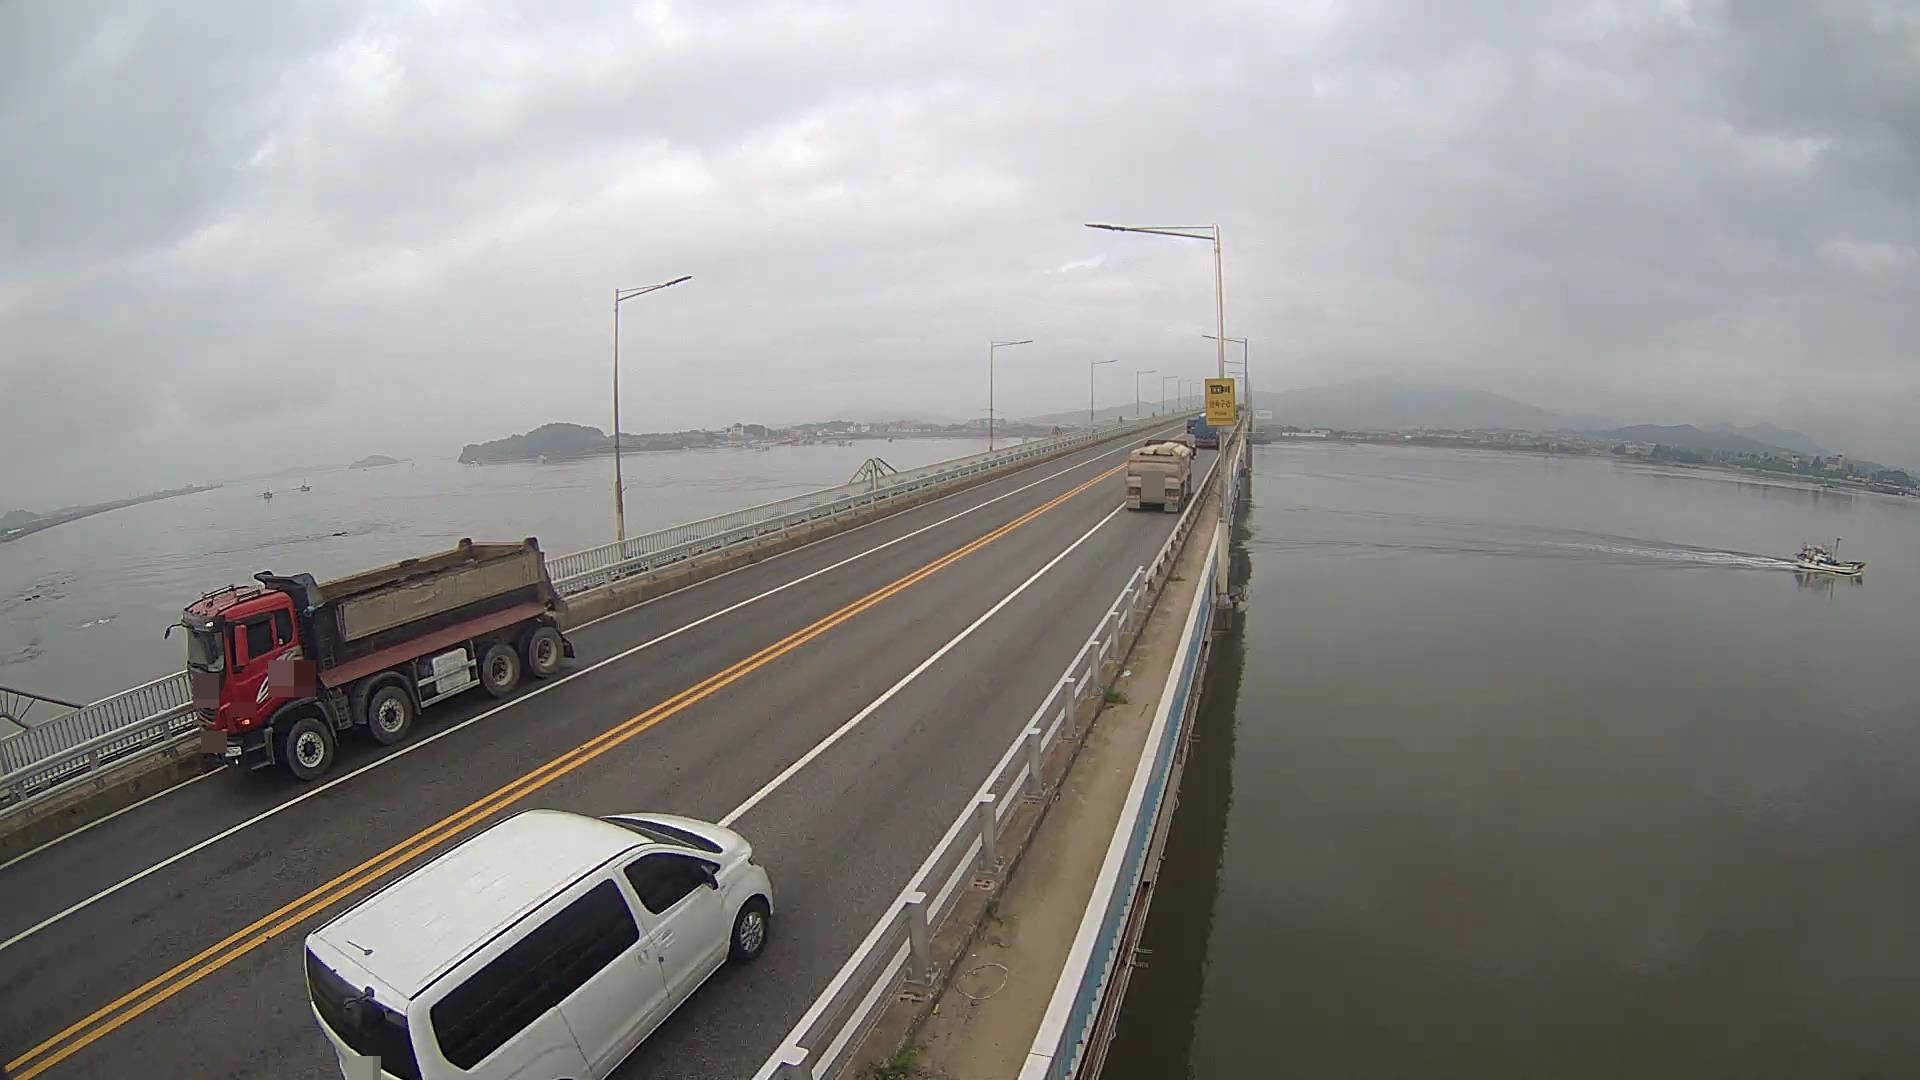정상차량: (165, 537, 576, 782)
